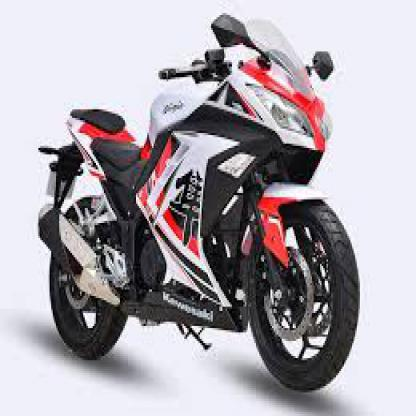Motorcycle: (42, 5, 366, 391)
